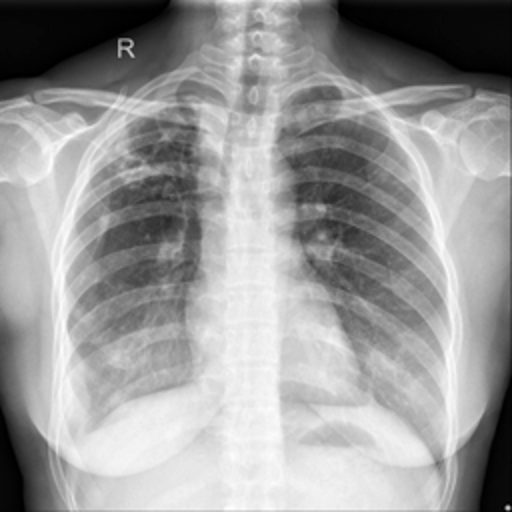TB: (91, 104, 187, 276)
